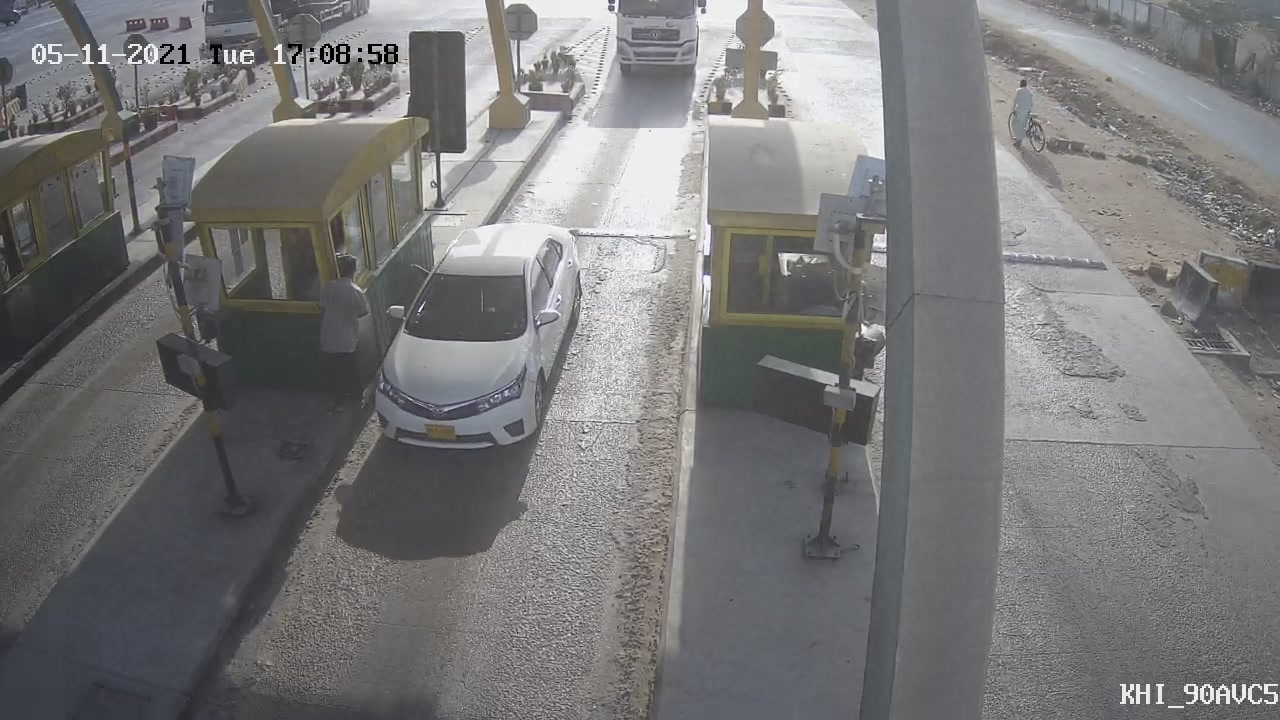F1: (339, 187, 609, 472)
